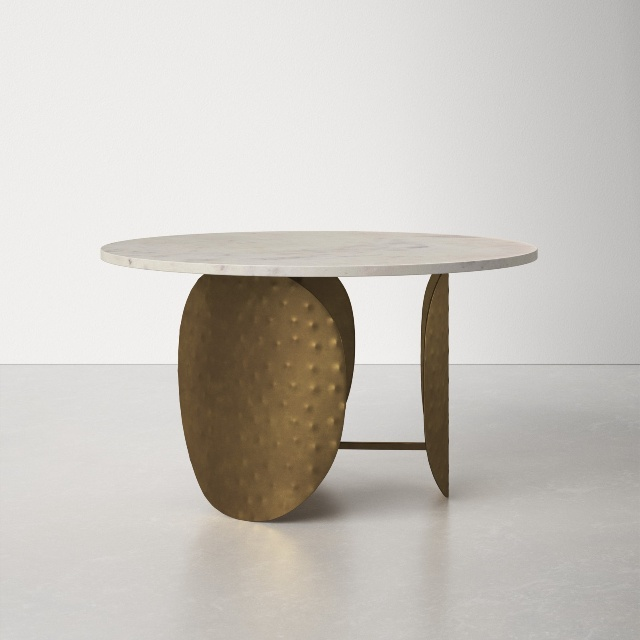obstacle: (101, 232, 537, 521)
